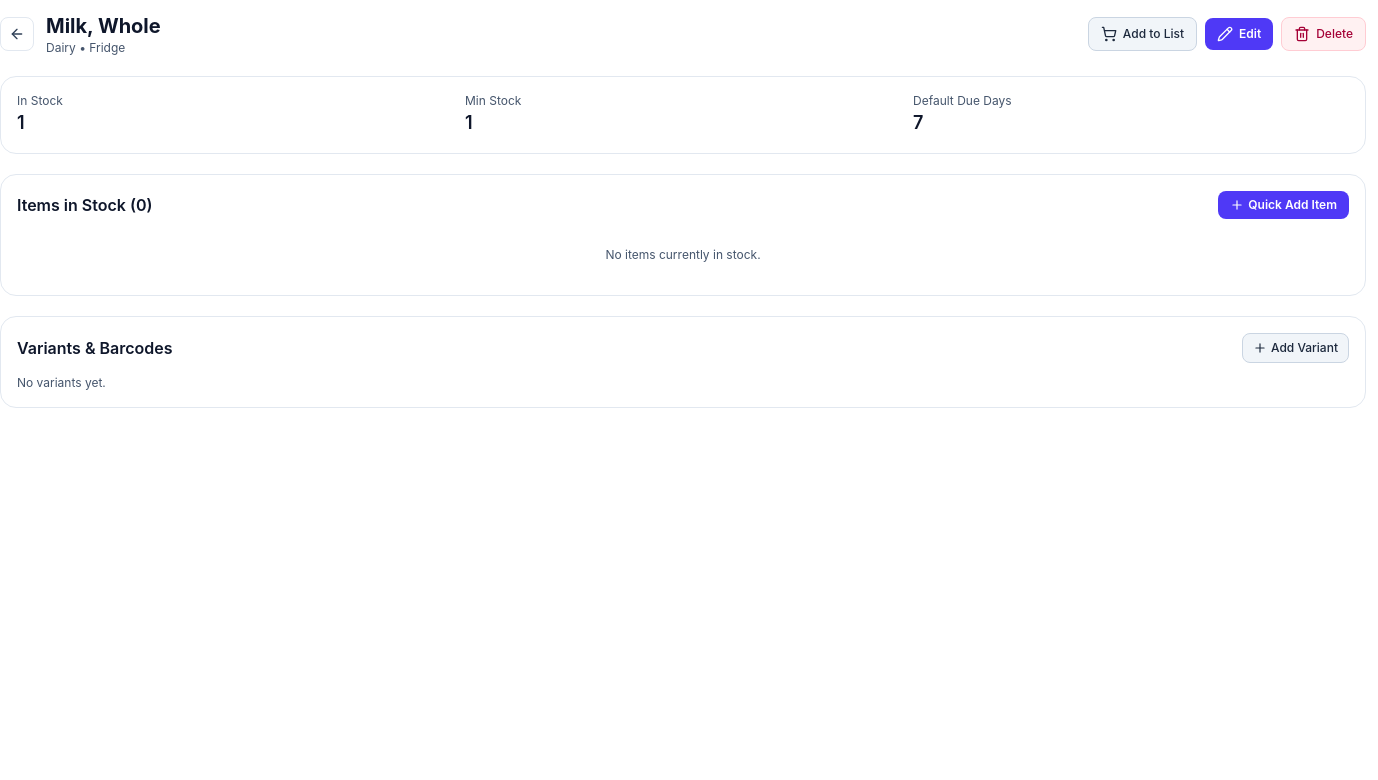
Test: ProductFormPage rolling-average due days default › refreshes ProductDetailPage immediately after editing a product even with staleTime: 15_000
This screenshot has width=1378, height=780.
Expected: the heading "Milk, Whole" is shown, [46, 12, 161, 40]
# Navigate to Edit page and rename the product
Click the link with aria-label "Edit Product". click: (1239, 34)
box: [1205, 18, 1273, 50]
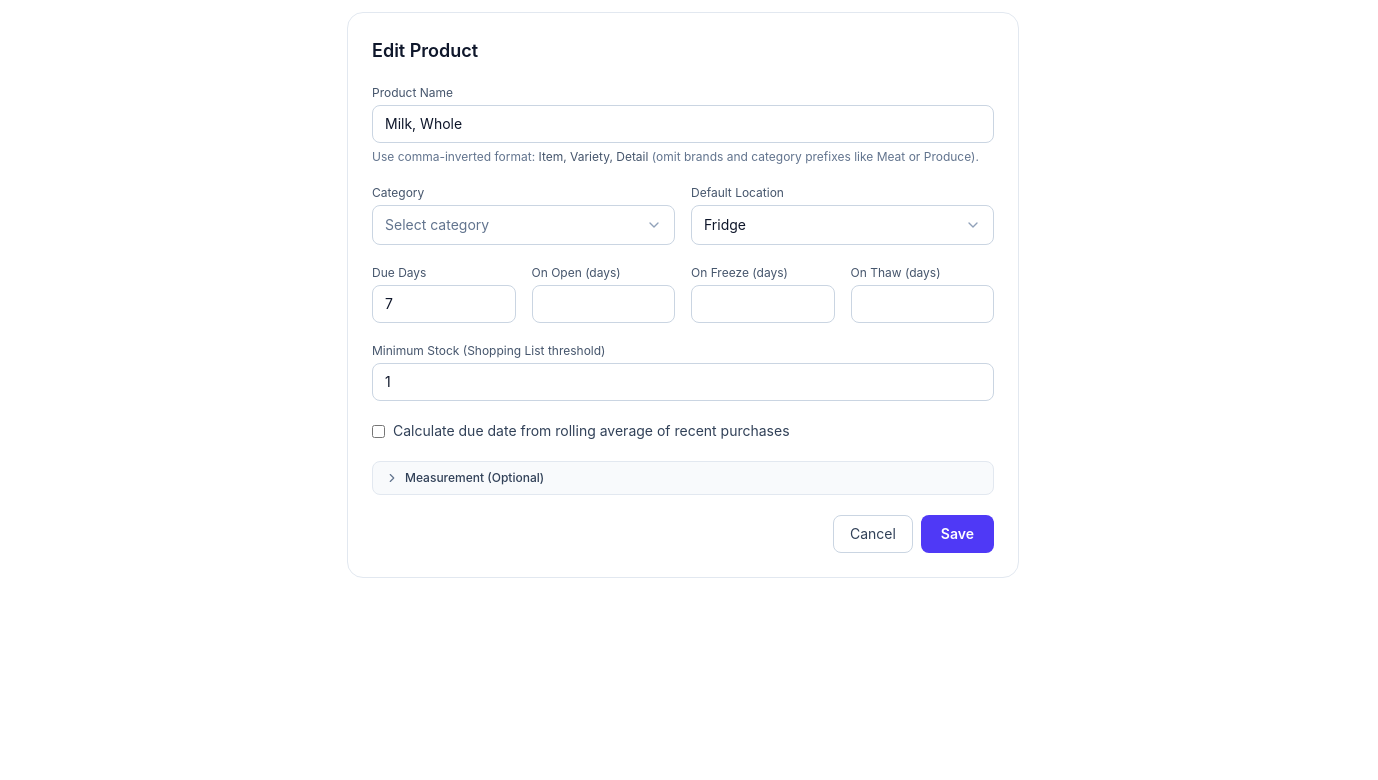
Replace the text in the field showing "Milk, Whole" with "Milk, Organic Whole". click: (683, 124)
box: [372, 105, 994, 143]
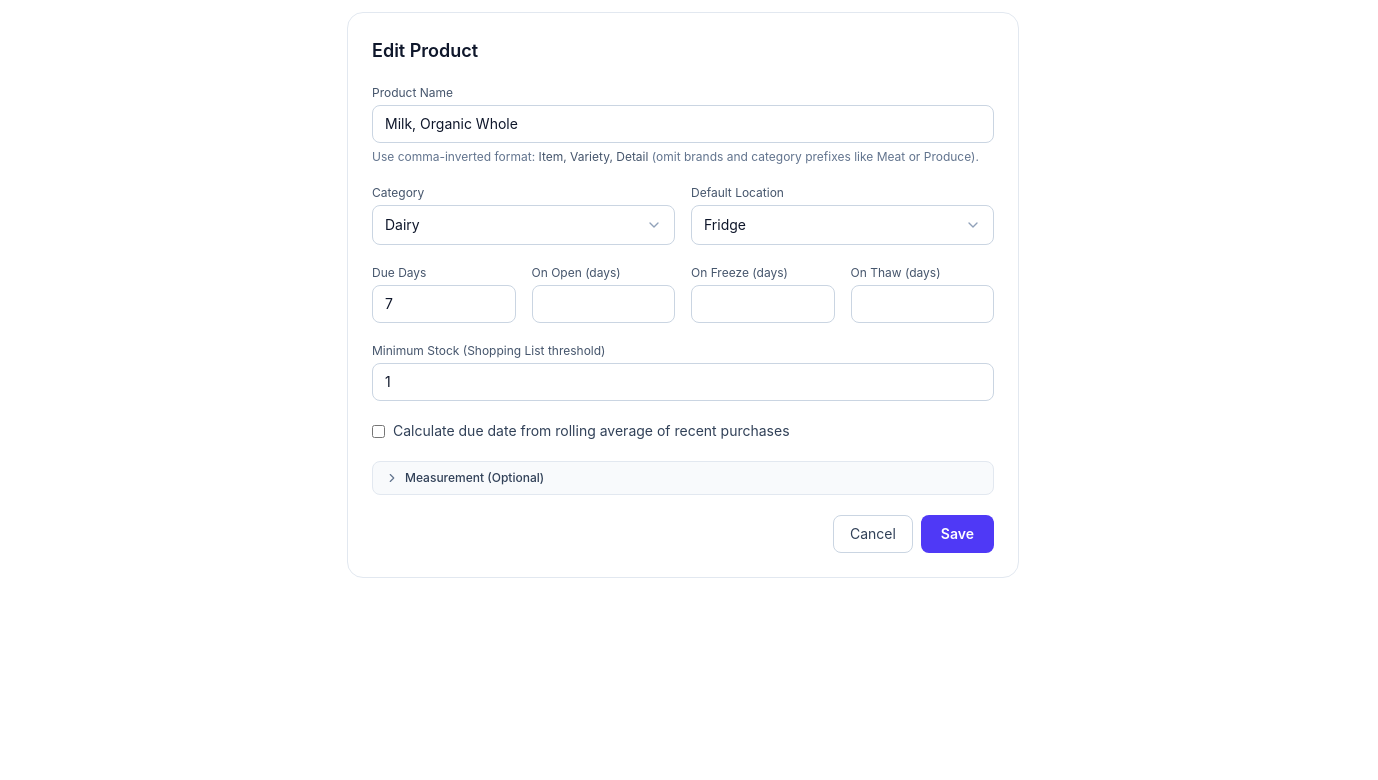
Click the button "Save". click: (957, 534)
box: [921, 515, 994, 553]
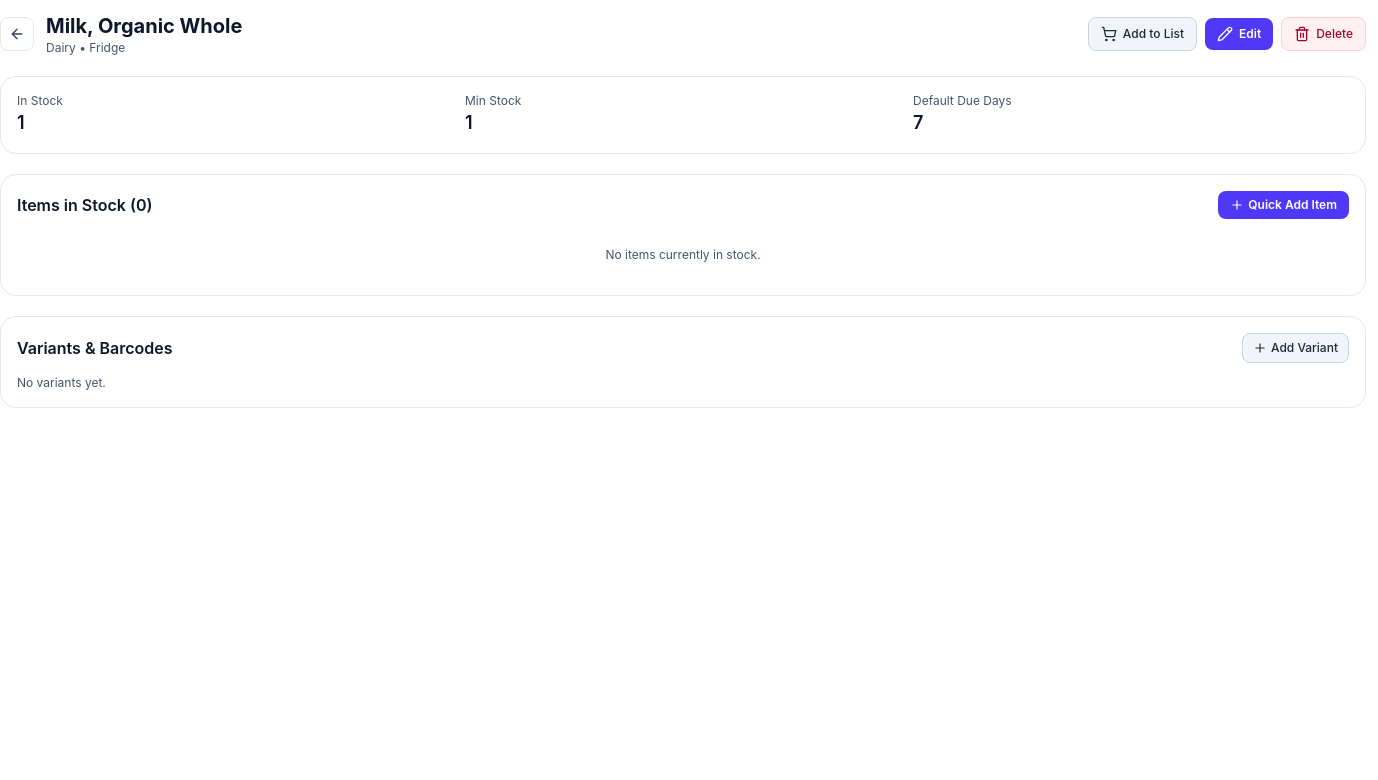
Expected: the heading "Milk, Organic Whole" is shown, [46, 12, 242, 40]
